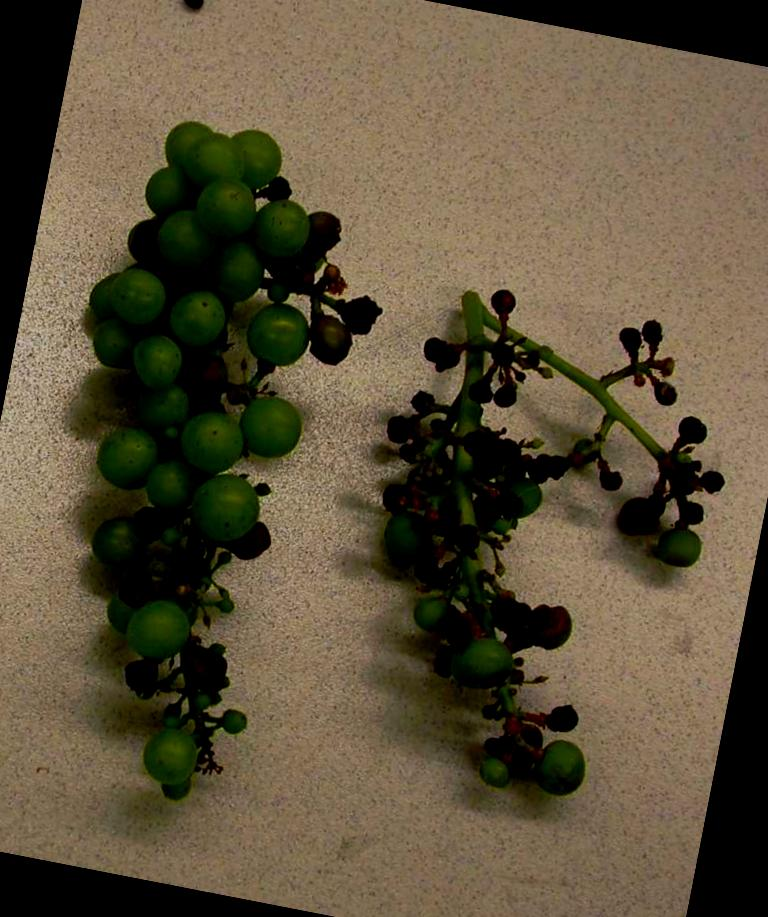Grape Rotten: (0, 101, 412, 819), (323, 268, 754, 820)
